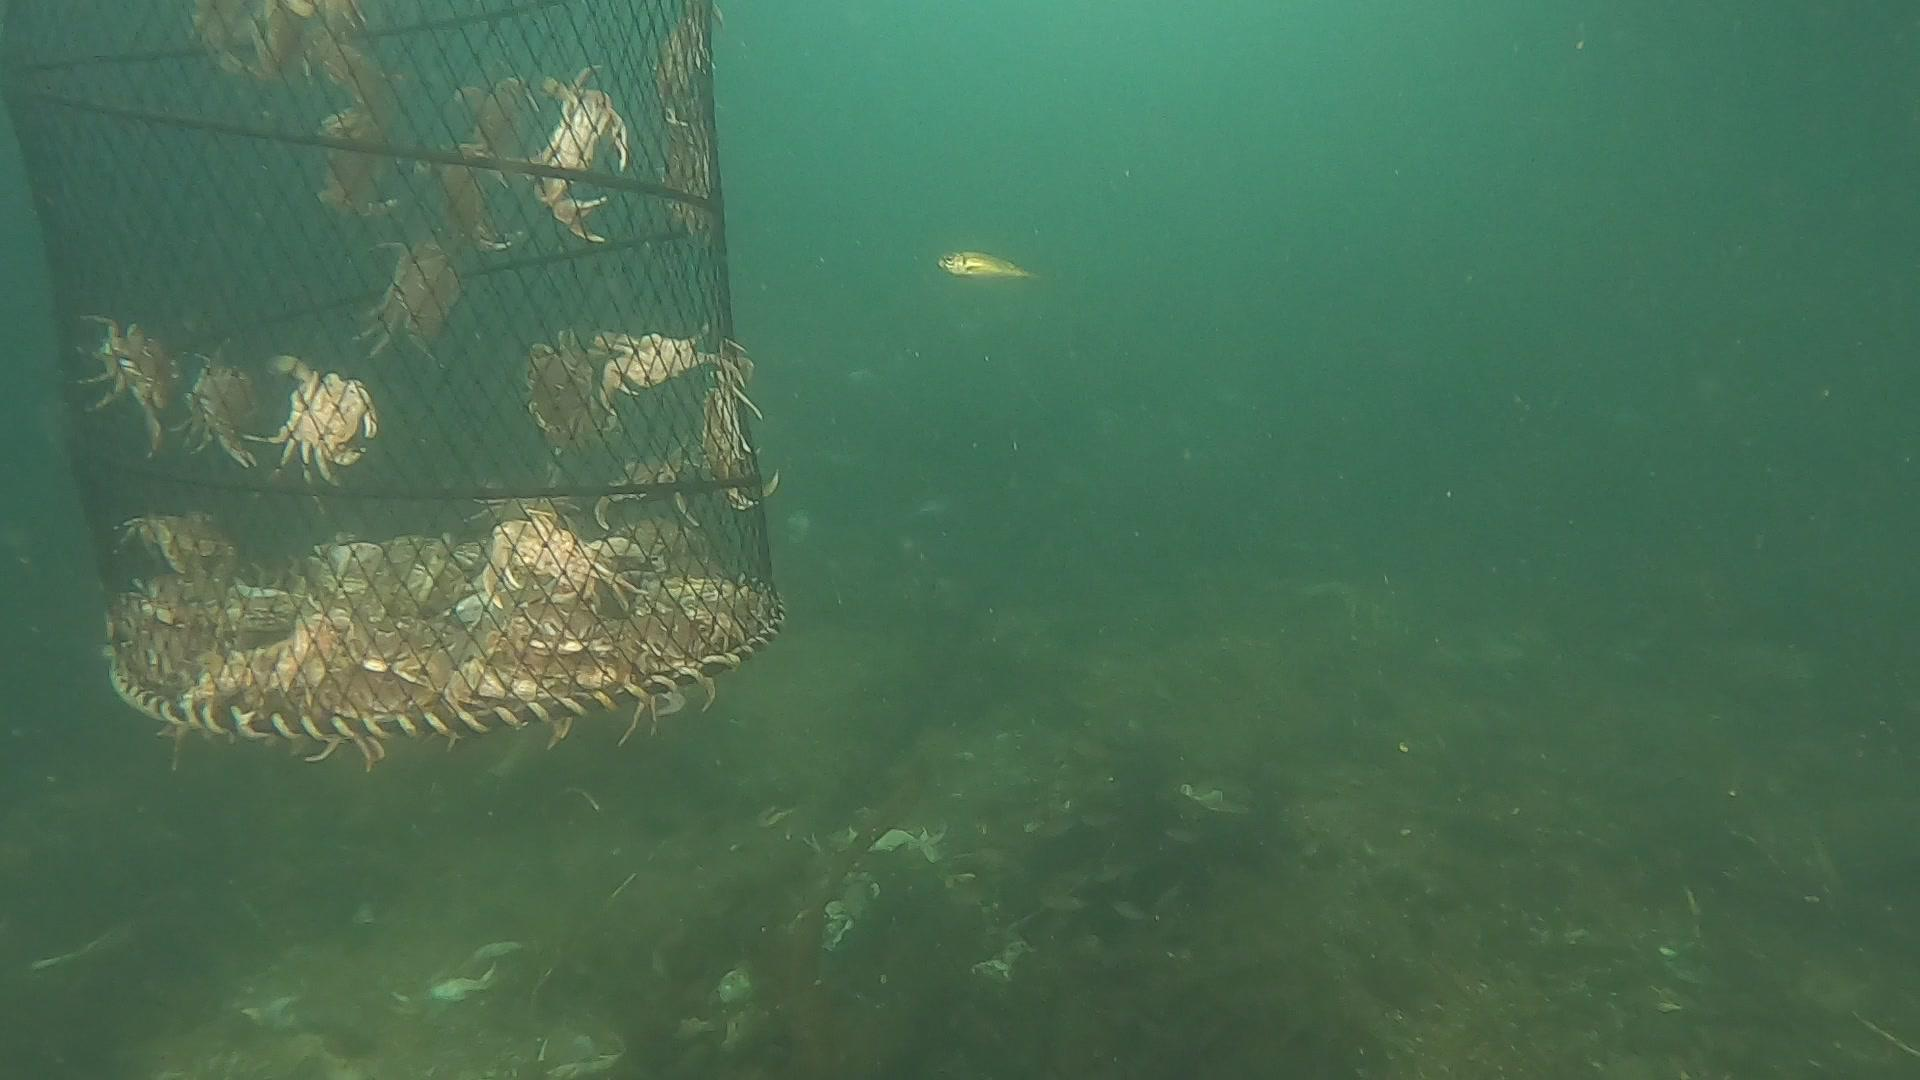spring fish trap: (0, 0, 783, 742)
